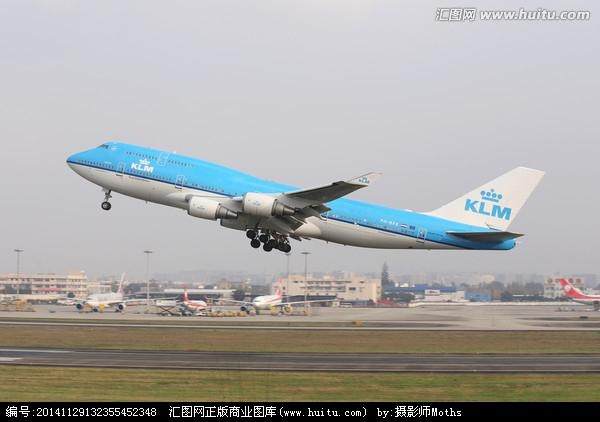airplane: (62, 133, 549, 261)
